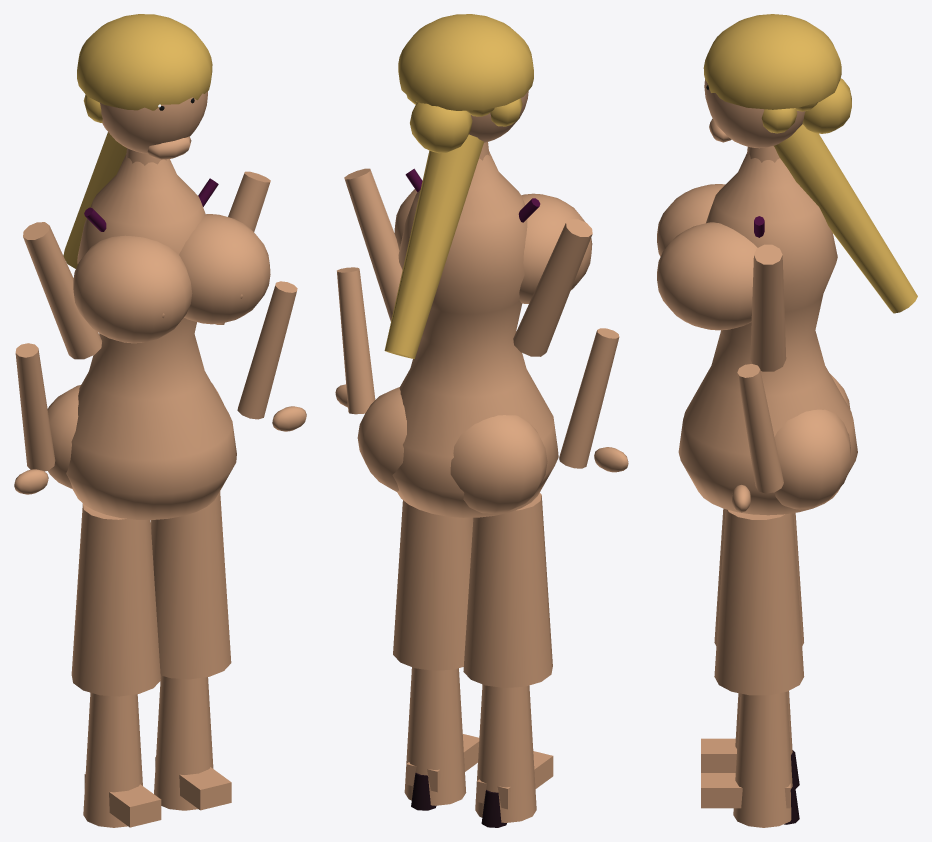
File: lola.glb
3 views of the same model, side by side, from view 1: azimuth 30°, elevation 25°; view 2: azimuth 150°, elevation 25°; view 3: azimuth 270°, elevation 25° (orthographic).
Parts seen in each view (by area): view 1: LOLA, torso, hairCap, breastL, breastR, armL, head, hairTail, armR; view 2: LOLA, torso, hairCap, hairTail, armL, armR, breastL, head; view 3: LOLA, torso, hairCap, breastR, hairTail, armR, head, breastL.
Boxes of the visible parts, box(x1,y1,x2,y2) form: LOLA: box(14, 94, 306, 827); torso: box(66, 154, 236, 519); hairCap: box(77, 14, 212, 110); breastL: box(73, 235, 192, 343); breastR: box(179, 214, 270, 324); armL: box(23, 222, 101, 359); head: box(100, 91, 207, 153); hairTail: box(63, 132, 126, 268); armR: box(215, 171, 270, 324); LOLA: box(335, 95, 628, 827); torso: box(392, 151, 558, 517); hairCap: box(398, 14, 533, 110); hairTail: box(384, 134, 483, 358); armL: box(513, 219, 592, 356); armR: box(344, 168, 402, 321); breastL: box(519, 193, 592, 303); head: box(469, 91, 528, 142); LOLA: box(701, 78, 851, 827); torso: box(678, 153, 857, 515); hairCap: box(703, 14, 841, 109); breastR: box(657, 222, 757, 330); hairTail: box(774, 124, 917, 313); armR: box(750, 244, 786, 371); head: box(704, 79, 805, 148); breastL: box(657, 184, 725, 256).
Size of the model in its own units: 0.748 by 1.92 by 0.5816.
